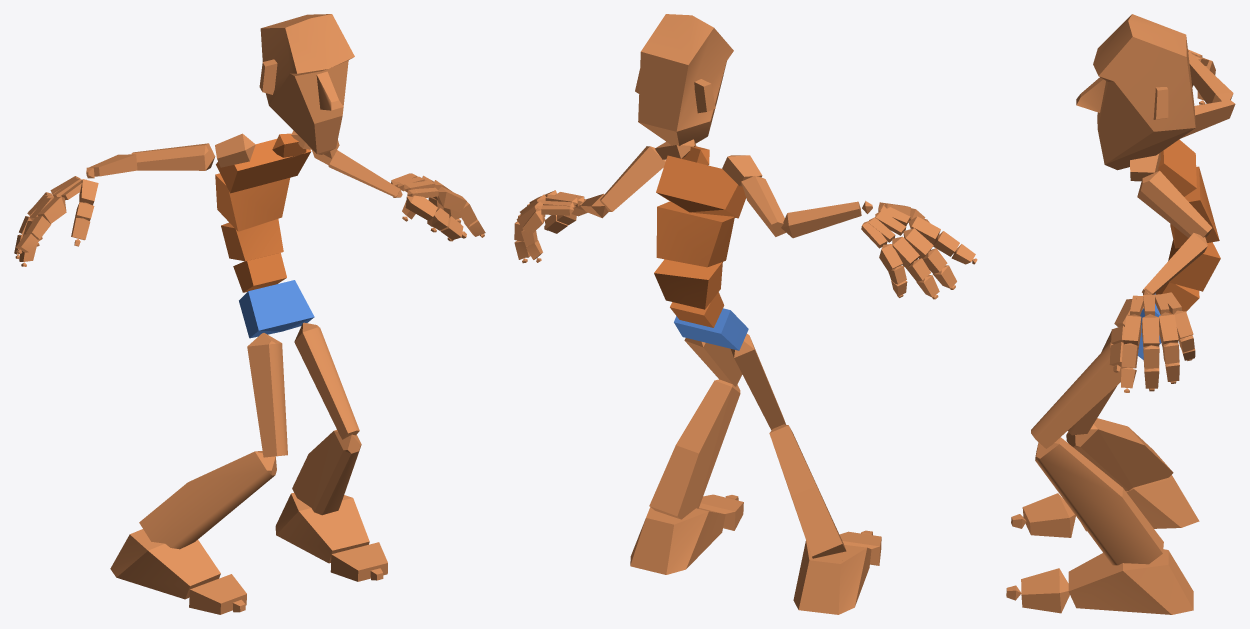
The model's file is personaje317.obj.
3 views of the same model, side by side, from view 1: azimuth 30°, elevation 25°; view 2: azimuth 150°, elevation 25°; view 3: azimuth 270°, elevation 25° (orthographic). The views are drawn at different scales.
Visible parts, largest first — view 1: BOPED_Head, BOPED_R_leg, BOPED_R_foot, BOPED_R_foot01, BOPED_R_legup, BOPED_L_leg, BOPED_L_legup, Bone01, Bone04, Bone05, Bone03, BOPED_R_arm_upper (+6 smaller); view 2: BOPED_Head, BOPED_L_leg, BOPED_R_foot01, BOPED_R_foot, BOPED_R_leg, Bone04, Bone05, Bone03, BOPED_R_legup, BOPED_L_arm_upper, Bone01, BOPED_R_arm_fore (+6 smaller); view 3: BOPED_Head, BOPED_L_leg, BOPED_R_foot01, BOPED_R_leg, BOPED_L_legup, BOPED_R_foot, BOPED_L_arm_upper, BOPED_R_foot_toe01, BOPED_R_foot_toe04, Bone05, BOPED_L_arm_fore, Bone03 (+13 smaller).
Boxes of the visible parts, box(x1,y1,x2,y2) form: BOPED_Head: box(259, 14, 354, 154); BOPED_R_leg: box(139, 451, 276, 549); BOPED_R_foot: box(110, 529, 220, 599); BOPED_R_foot01: box(275, 493, 369, 563); BOPED_R_legup: box(247, 333, 287, 457); BOPED_L_leg: box(292, 430, 361, 515); BOPED_L_legup: box(294, 322, 359, 439); Bone01: box(239, 280, 314, 338); Bone04: box(215, 173, 289, 231); Bone05: box(216, 139, 311, 193); Bone03: box(221, 219, 283, 261); BOPED_R_arm_upper: box(131, 143, 215, 170); BOPED_Head: box(635, 14, 733, 145); BOPED_L_leg: box(649, 379, 740, 519); BOPED_R_foot01: box(630, 507, 725, 574); BOPED_R_foot: box(793, 540, 871, 614); BOPED_R_leg: box(769, 424, 846, 558); Bone04: box(656, 201, 734, 267); Bone05: box(656, 155, 746, 218); Bone03: box(654, 259, 722, 309); BOPED_R_legup: box(731, 334, 785, 430); BOPED_L_arm_upper: box(600, 146, 665, 211); Bone01: box(674, 308, 748, 350); BOPED_R_arm_fore: box(781, 201, 861, 238); BOPED_Head: box(1076, 14, 1195, 170); BOPED_L_leg: box(1035, 437, 1163, 565); BOPED_R_foot01: box(1068, 549, 1193, 614); BOPED_R_leg: box(1066, 418, 1173, 491); BOPED_L_legup: box(1031, 342, 1133, 448); BOPED_R_foot: box(1081, 475, 1199, 531); BOPED_L_arm_upper: box(1137, 170, 1212, 237); BOPED_R_foot_toe01: box(1022, 493, 1075, 537); BOPED_R_foot_toe04: box(1021, 568, 1069, 613); Bone05: box(1158, 139, 1196, 196); BOPED_L_arm_fore: box(1142, 233, 1207, 294); Bone03: box(1168, 240, 1220, 291).
Size of the model in its own units: 152 by 167 by 60.34.
